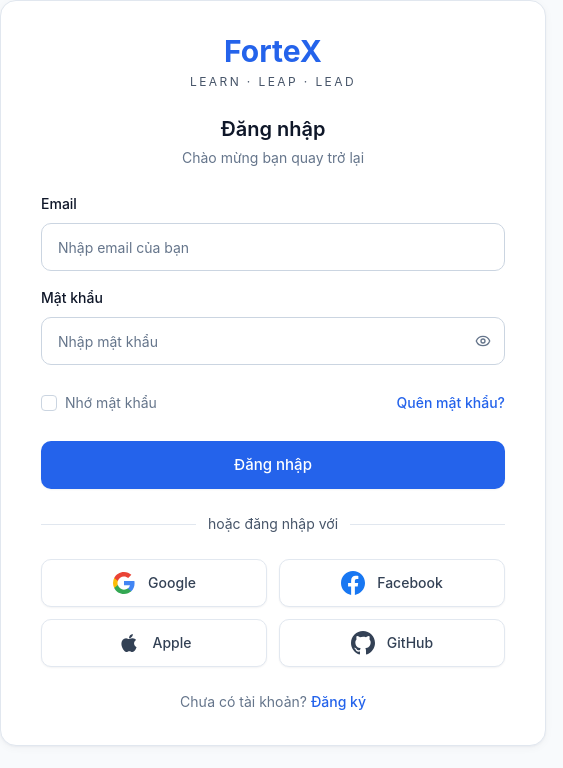
Scenario: LoginPage — validate tiếng Việt › gõ lại vào ô thì lỗi của ô đó biến mất
The width and height of the screenshot is (563, 768).
Click the button "Đăng nhập" at [273, 465], box x1=41 y1=441 x2=505 y2=489
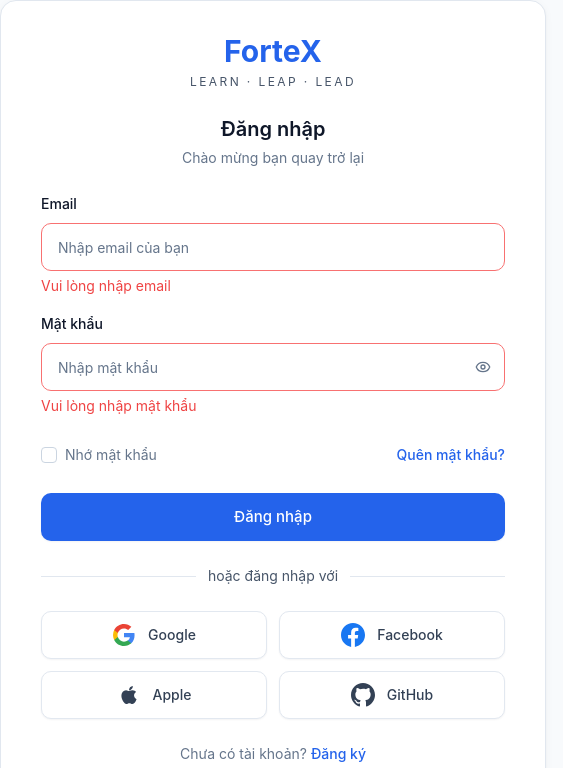
Type "a" into the field labelled "Email" at [273, 247], box x1=41 y1=223 x2=505 y2=271
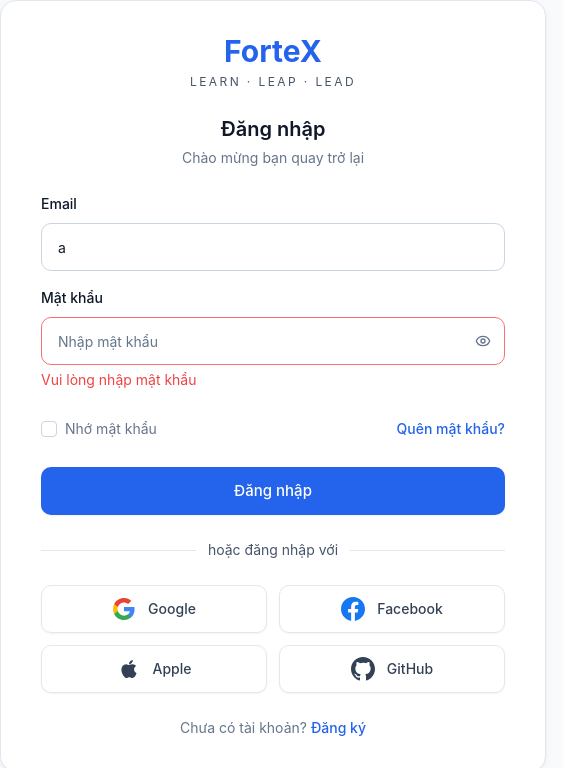
Check: the text "Vui lòng nhập mật khẩu" is shown, box x1=41 y1=371 x2=196 y2=388
Check: the text "Vui lòng nhập email" is gone
